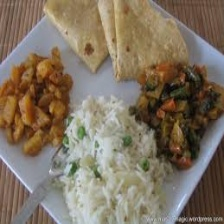rice: (57, 95, 171, 224)
